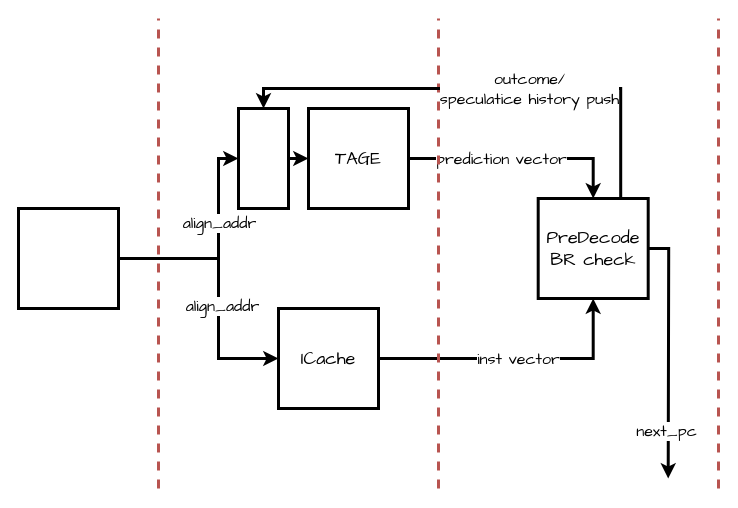
Image size: 738x508. Some labels were removed from this diagram. The shapes that lost their labels are listed below. From the top down, each one's box as (x1, y1, x2, y2) in pixels, then its label:
(236, 106, 290, 210): HASH
(16, 206, 120, 310): PC
